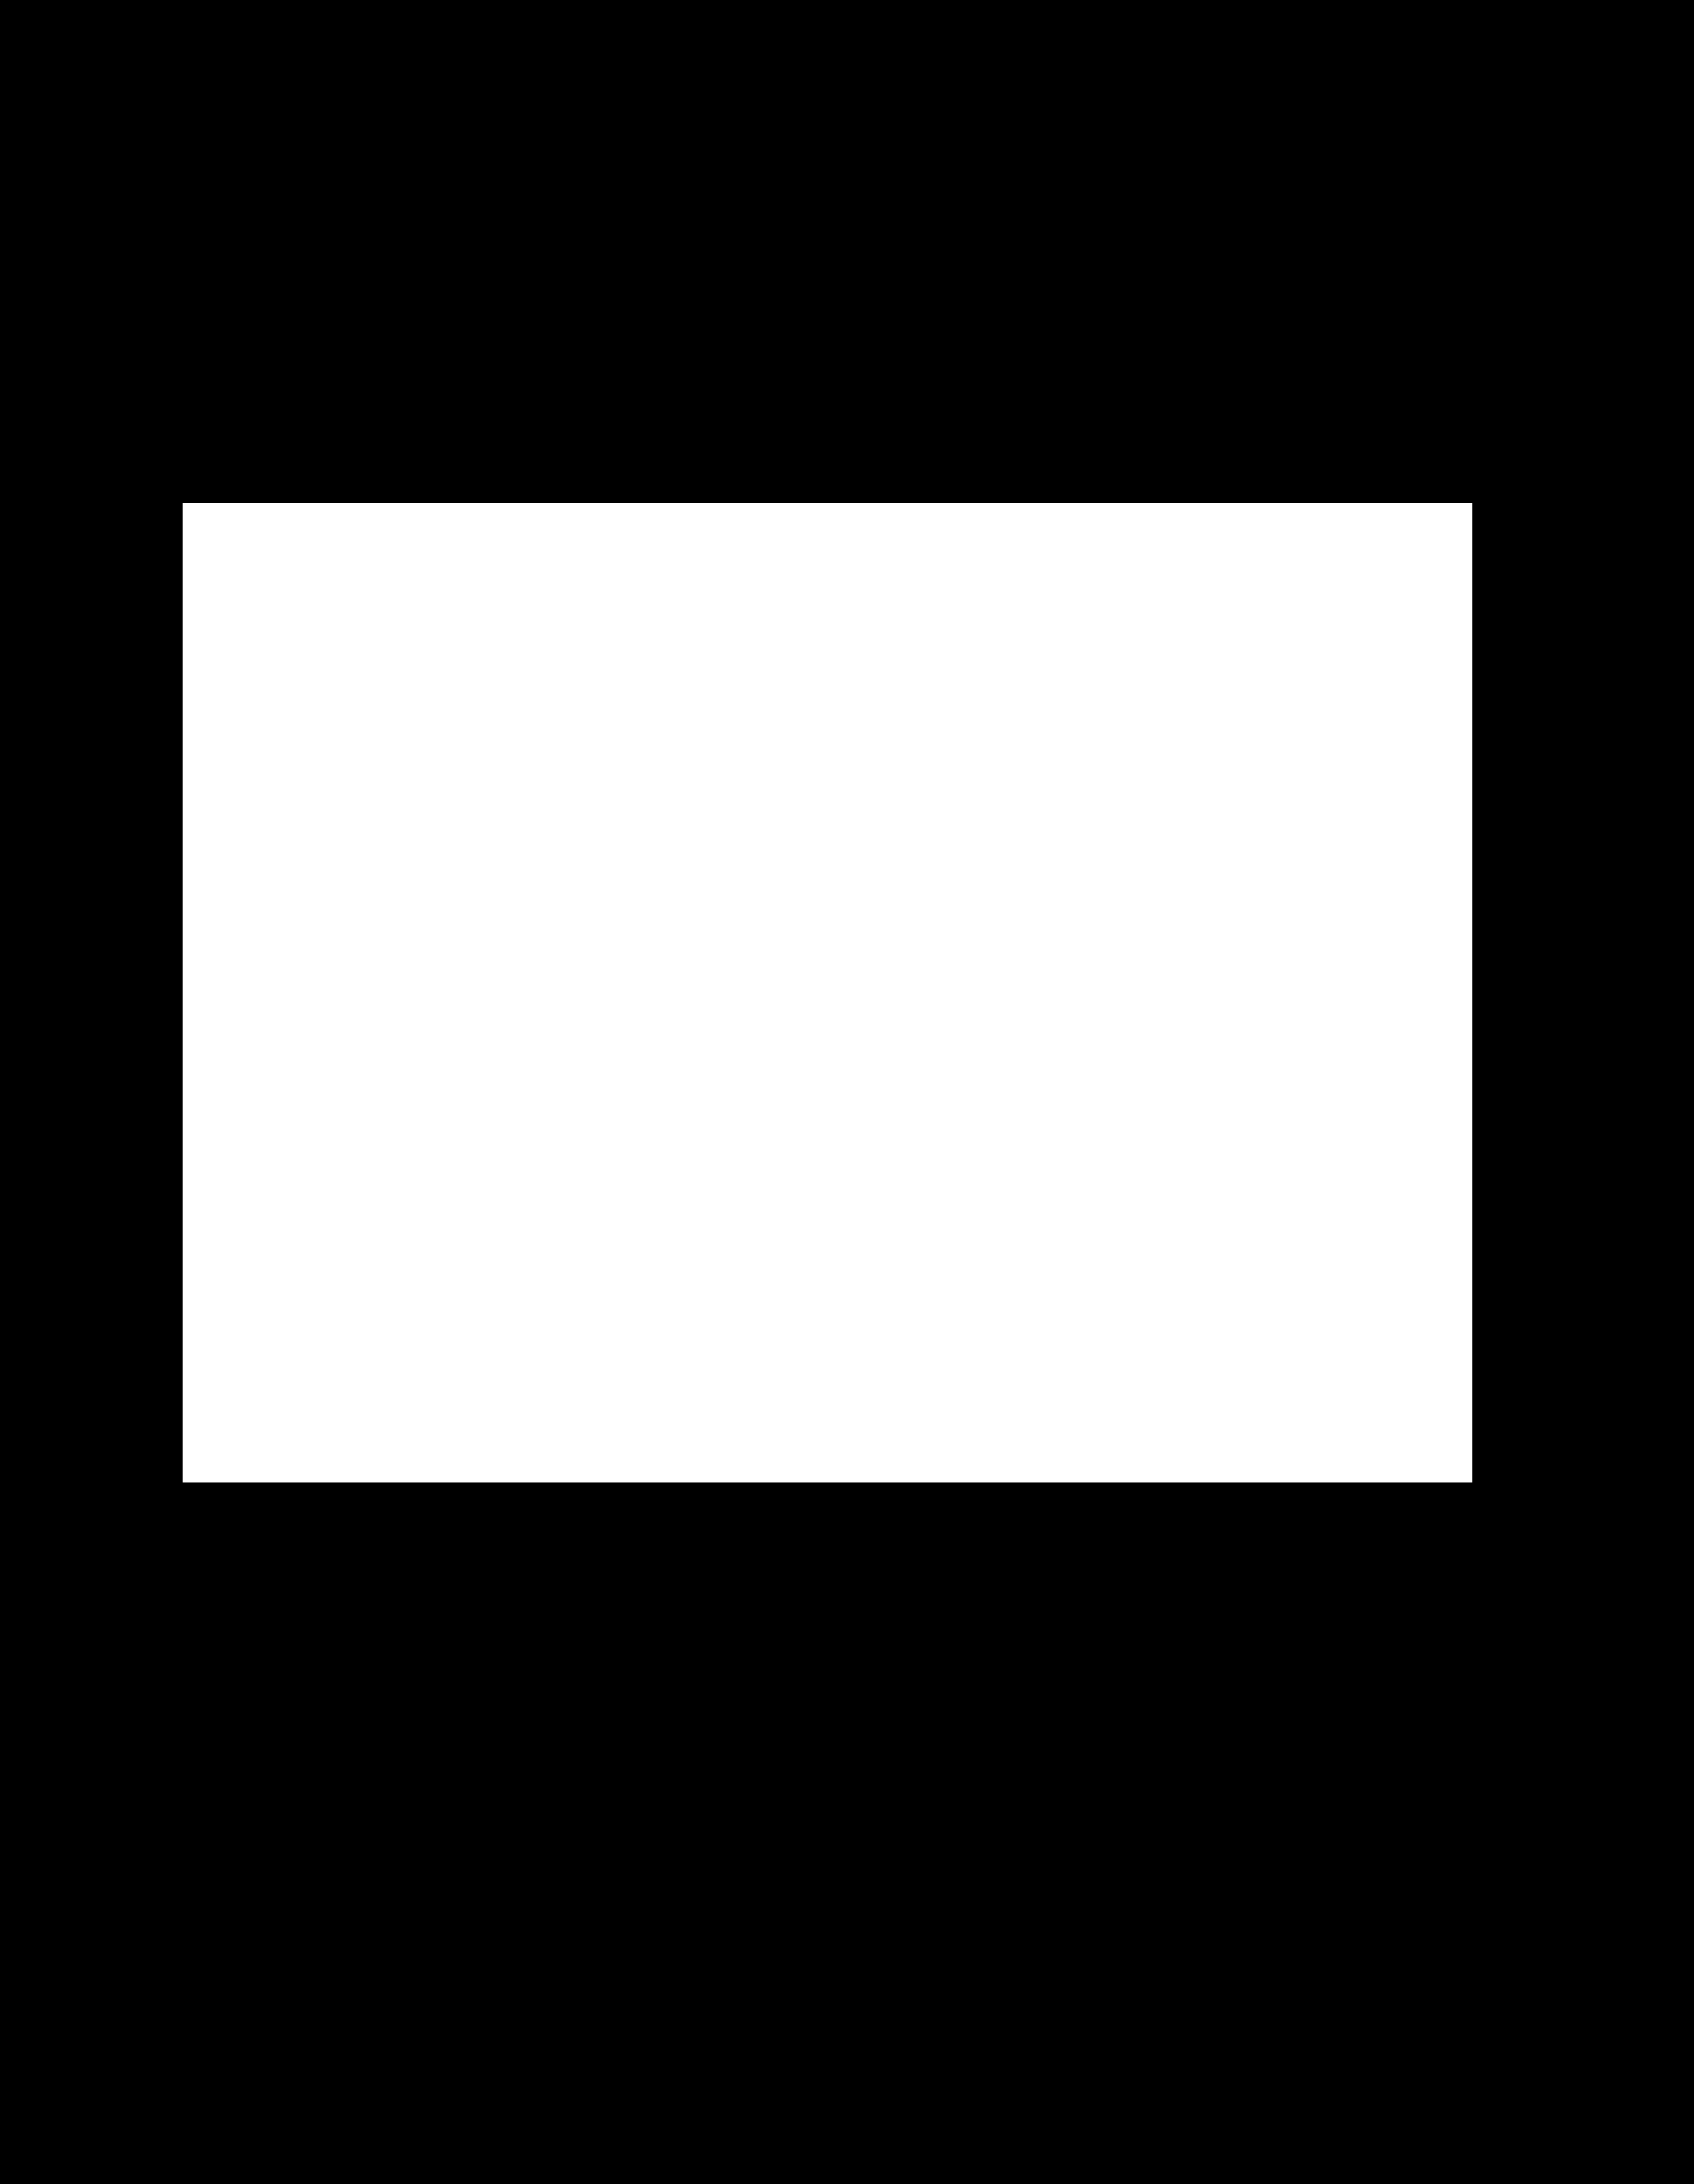table: (183, 503, 1473, 1482)
